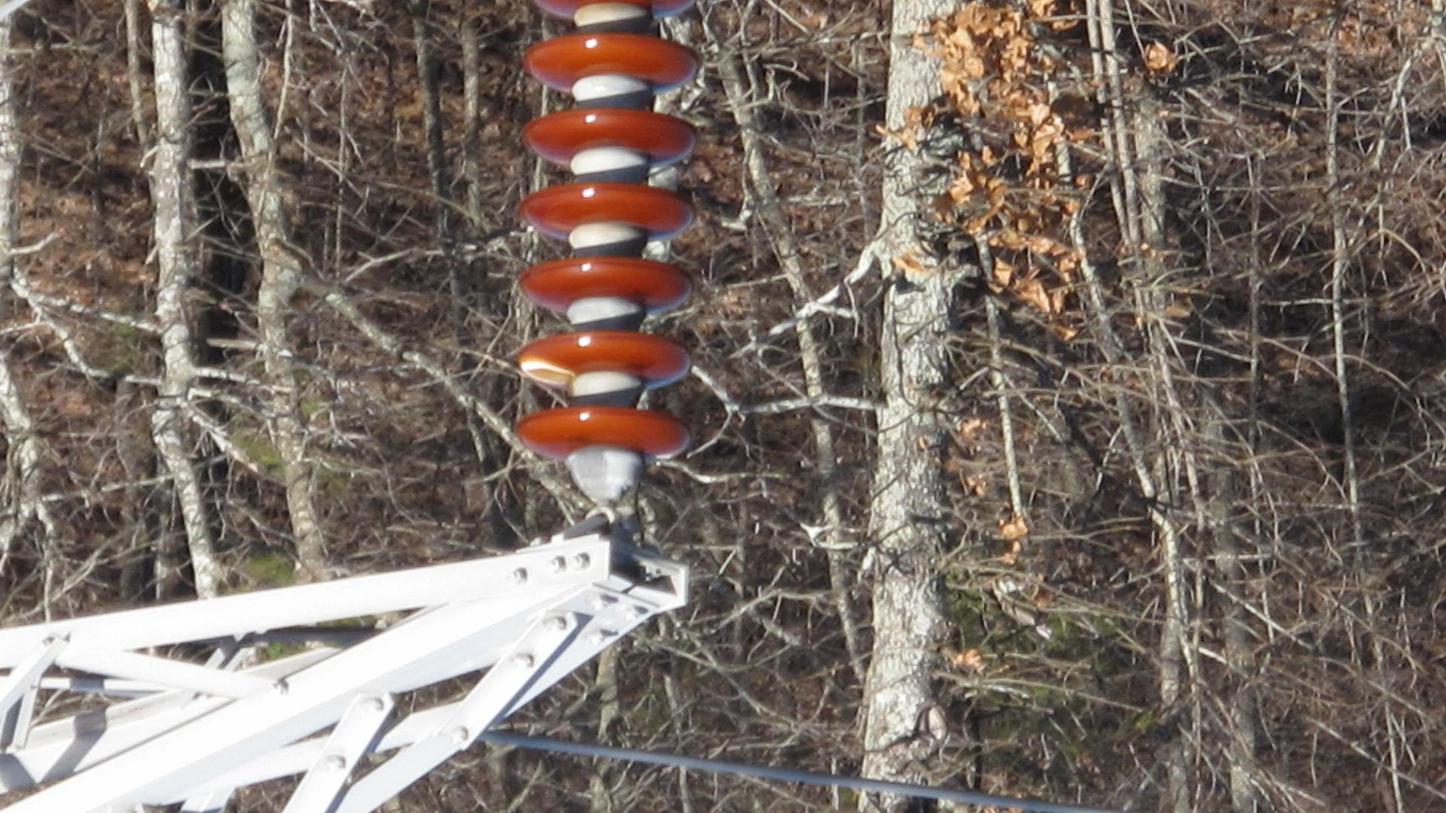insulator: (505, 1, 706, 467)
insulator_flashover: (517, 355, 575, 390)
